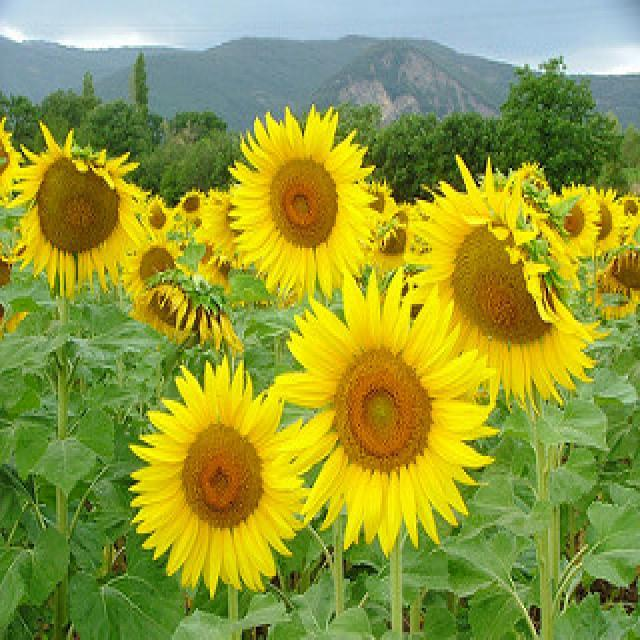sunflower: (275, 268, 493, 556), (402, 154, 609, 407), (131, 355, 307, 596), (228, 104, 382, 302), (4, 120, 146, 298), (130, 281, 244, 354), (120, 229, 190, 301), (202, 186, 246, 268), (550, 181, 591, 258), (584, 270, 640, 318), (590, 184, 621, 256), (369, 222, 407, 272), (602, 248, 640, 298), (198, 255, 242, 295), (0, 114, 18, 208), (139, 196, 174, 242), (359, 179, 396, 219), (516, 163, 546, 206), (178, 187, 202, 224), (617, 193, 639, 228), (392, 200, 418, 224), (0, 257, 14, 285)
